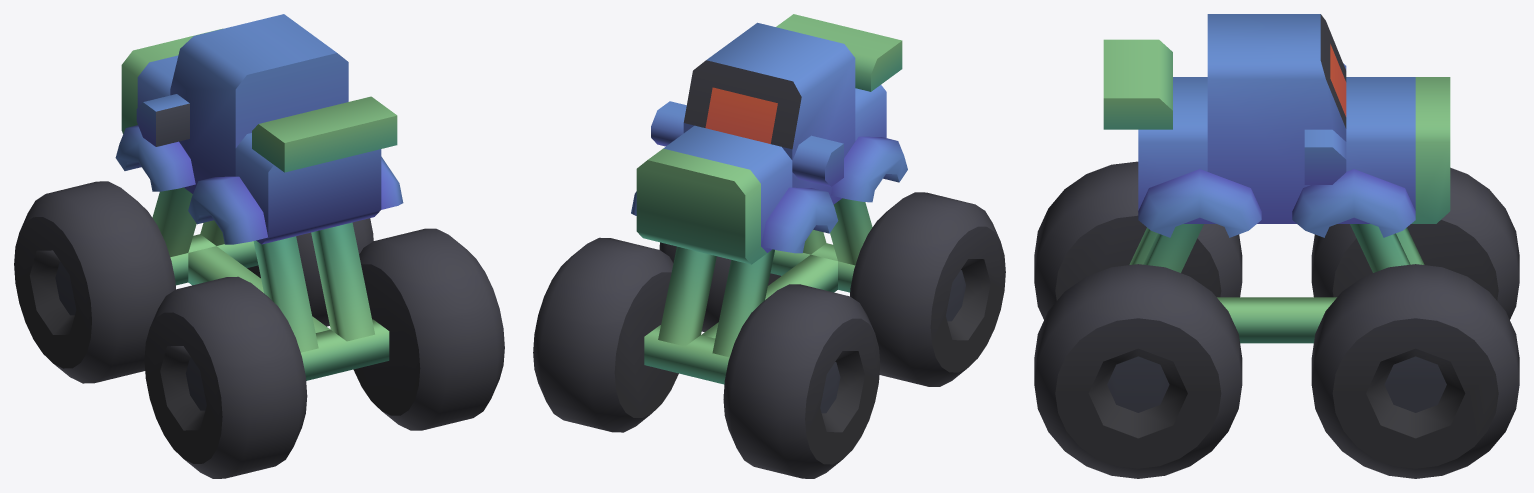
Rendered from vehicle-monster-truck..glb.
3 views of the same model, side by side, from view 1: azimuth 30°, elevation 25°; view 2: azimuth 150°, elevation 25°; view 3: azimuth 270°, elevation 25° (orthographic). The views are drawn at different scales.
Parts seen in each view (by area): view 1: body, wheel-bl, wheel-fl, wheel-br, wheel-fr; view 2: body, wheel-fl, wheel-bl, wheel-fr, wheel-br; view 3: body, wheel-br, wheel-fr, wheel-bl, wheel-fl.
Part boxes in pixels (x1,y1,x2,y2): body: [115, 14, 403, 380]; wheel-bl: [144, 276, 307, 478]; wheel-fl: [14, 181, 175, 383]; wheel-br: [353, 228, 504, 430]; wheel-fr: [247, 218, 373, 326]; body: [631, 14, 907, 384]; wheel-fl: [723, 284, 880, 478]; wheel-bl: [850, 192, 1005, 386]; wheel-fr: [533, 237, 678, 432]; wheel-br: [659, 242, 780, 332]; body: [1103, 14, 1450, 343]; wheel-br: [1034, 264, 1242, 478]; wheel-fr: [1311, 264, 1519, 478]; wheel-bl: [1034, 161, 1242, 319]; wheel-fl: [1311, 167, 1519, 319].
Bounding box in the file's own units: 0.625 × 0.75 × 0.875.
Materials: 1 (1 with a texture image).
